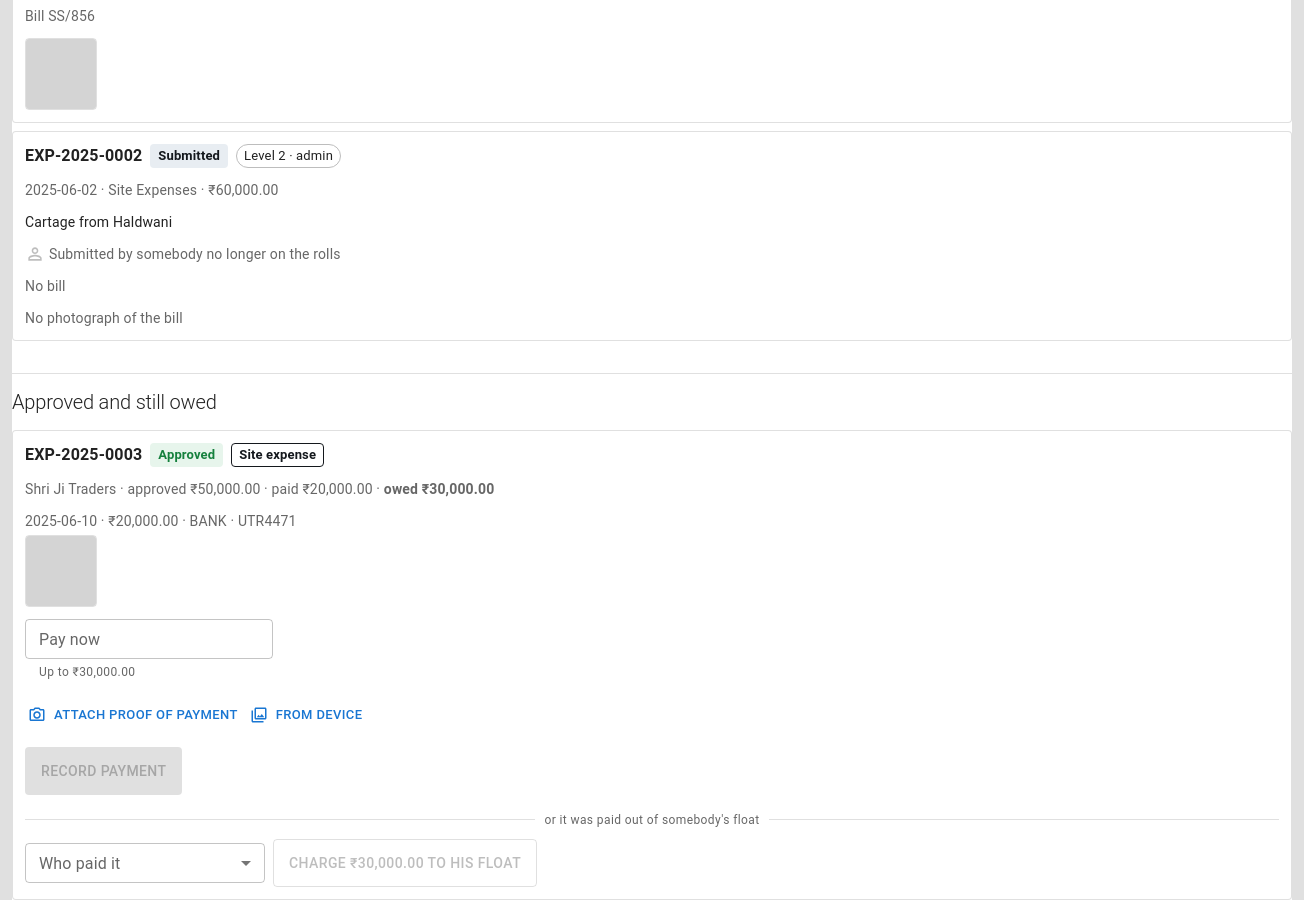
Test case: ApprovalsPage › says a man is owed money rather than drawing him a minus sign
(page scrolled)
expect the text "EXP-2025-0003" is shown: met, box [25,443,142,467]
Click the dropdown named "Who paid it": [145, 863] box [25,843,265,883]
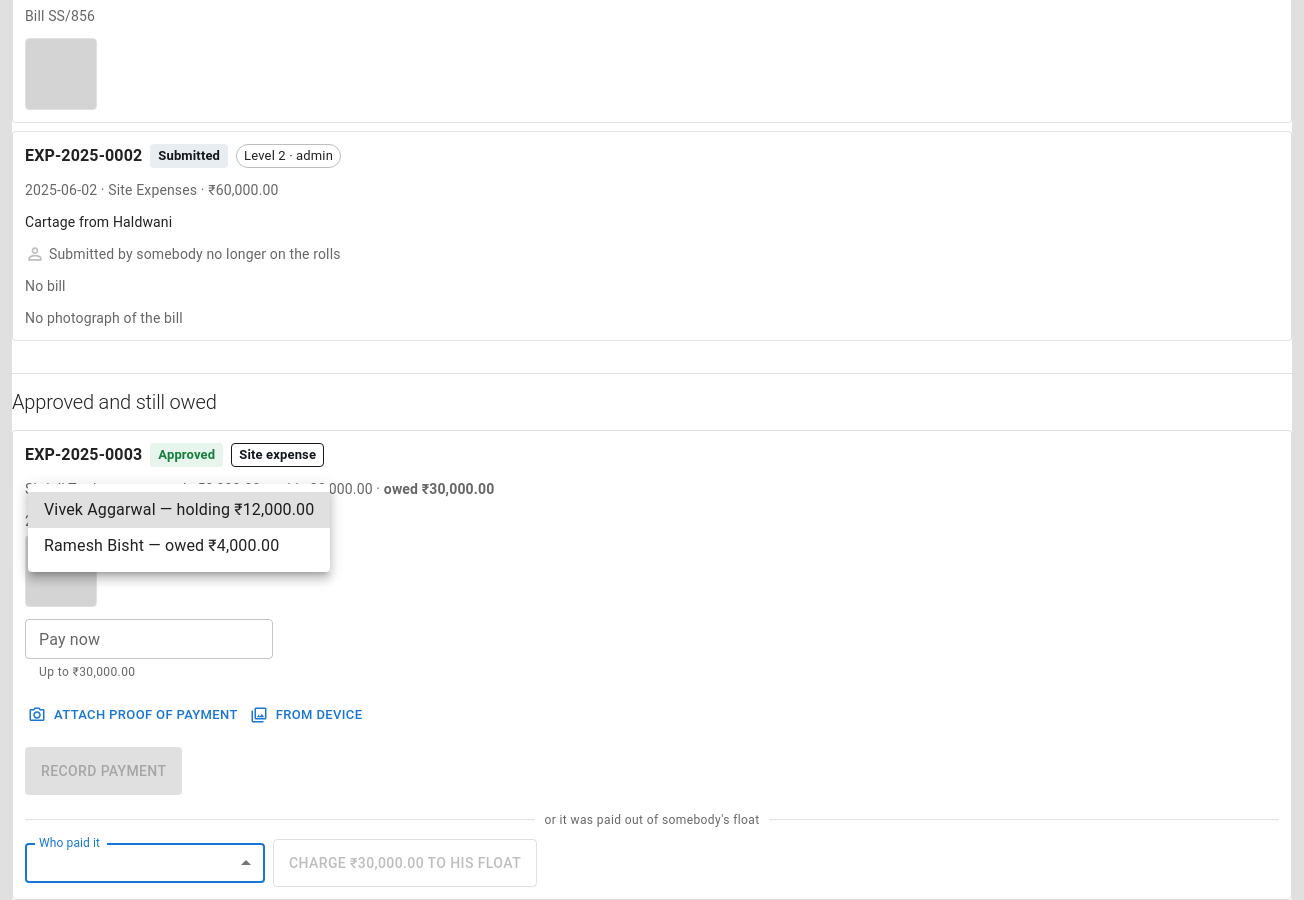
expect the option "Ramesh Bisht — owed ₹4,000.00" is shown: met, box [44,536,279,555]
expect the option "Vivek Aggarwal — holding ₹12,000.00" is shown: met, box [28,492,330,528]
